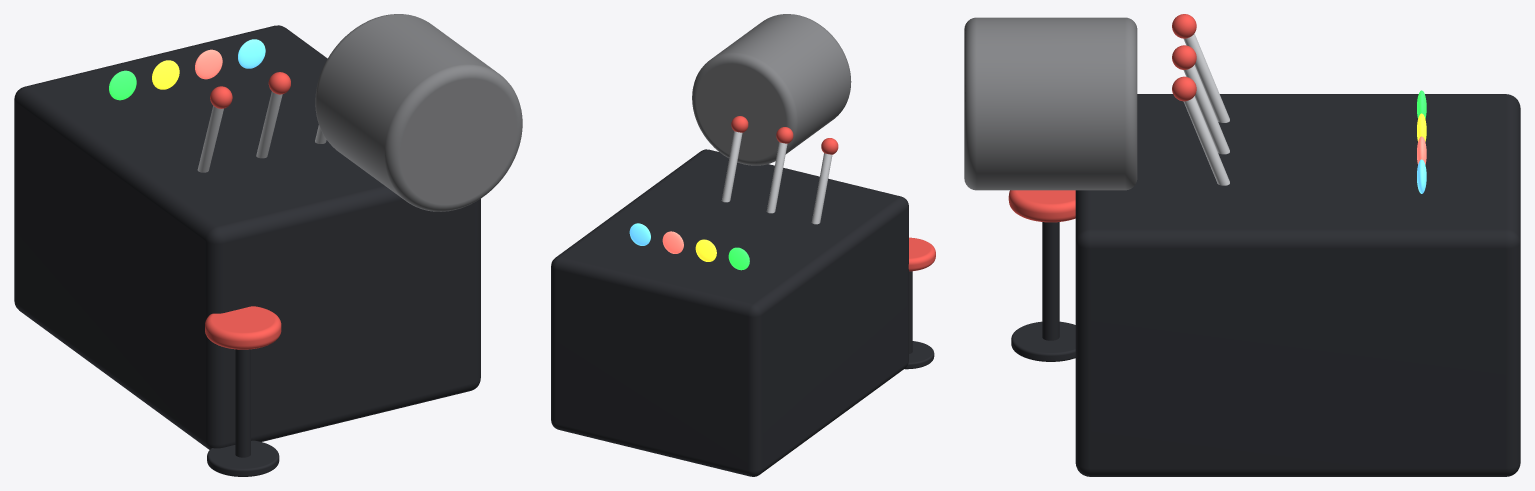
Rendered from train_dining_car__engine_cab.glb.
The picture shows the model from 3 angles, left to right: view 1: azimuth 30°, elevation 25°; view 2: azimuth 150°, elevation 25°; view 3: azimuth 270°, elevation 25°; orthographic projection. The views are drawn at different scales.
Parts seen in each view (by area): view 1: Set, Glow; view 2: Set, Glow; view 3: Set, Glow.
Boxes of the visible parts, x1,y1,x2,y2 form: Set: [14, 14, 522, 476]; Glow: [109, 39, 265, 100]; Set: [551, 14, 935, 476]; Glow: [629, 223, 749, 270]; Set: [964, 14, 1520, 476]; Glow: [1417, 90, 1426, 193].
Bounding box in the file's own units: 1.47 × 1.85 × 2.25.
